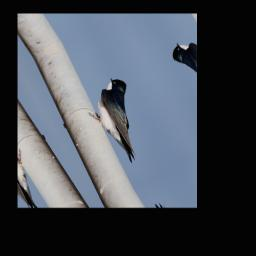Swallow: (78, 73, 162, 170)
